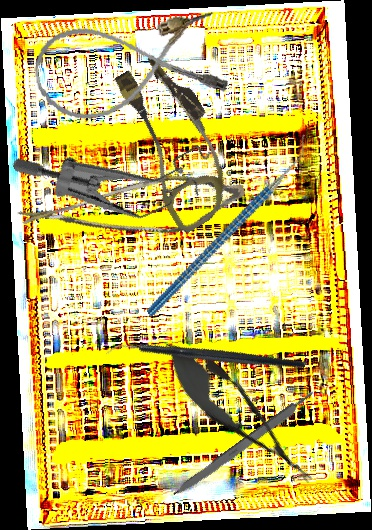Cannula: (95, 47, 255, 236), (28, 6, 230, 127)
Chopper: (107, 134, 347, 317), (104, 280, 308, 438)
Micro Scissor: (14, 143, 250, 279), (148, 326, 330, 501)
Scalpel Handle: (170, 388, 319, 502)
Speculum: (9, 83, 227, 263)
